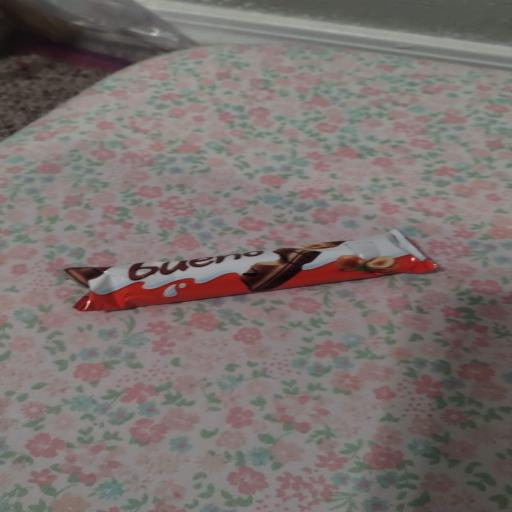chocolate: (66, 230, 435, 310)
